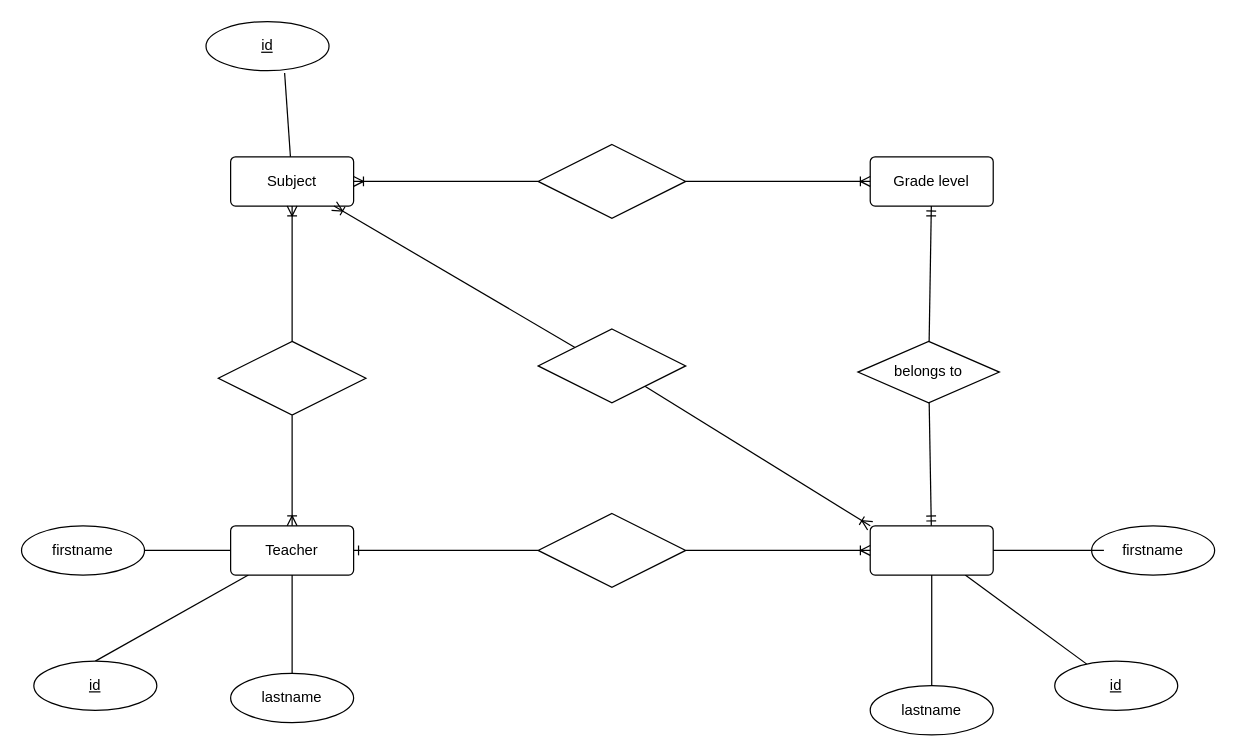
The diagram is 1236 pixels wide and 756 high, and some of its shapes have lost their labels. The centre of each missing label's shape, as x and y in pixels:
facilitates: the point at 611,549
is enrolled in: the point at 611,365
is taught in: the point at 611,180
Learner: the point at 931,550
teaches: the point at 291,377
